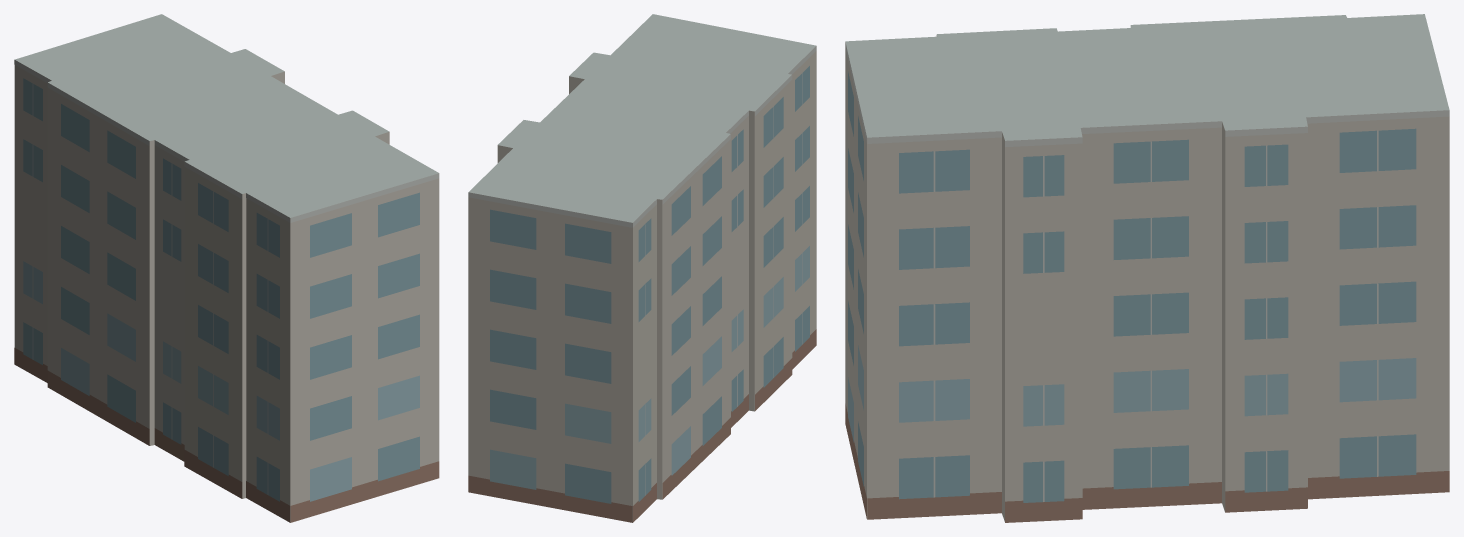
Rendered from survey-upis-32640619.glb.
The picture shows the model from 3 angles, left to right: view 1: azimuth 30°, elevation 25°; view 2: azimuth 150°, elevation 25°; view 3: azimuth 270°, elevation 25°; orthographic projection. The views are drawn at different scales.
Visible parts, largest first — view 1: survey-upis-32640619.tmp; view 2: survey-upis-32640619.tmp; view 3: survey-upis-32640619.tmp.
Boxes of the visible parts, x1=… form: survey-upis-32640619.tmp: x1=14, y1=14, x2=439, y2=522; survey-upis-32640619.tmp: x1=468, y1=14, x2=816, y2=522; survey-upis-32640619.tmp: x1=845, y1=14, x2=1449, y2=522.
Bounding box in the file's own units: 10.48 × 14.7 × 21.08.
